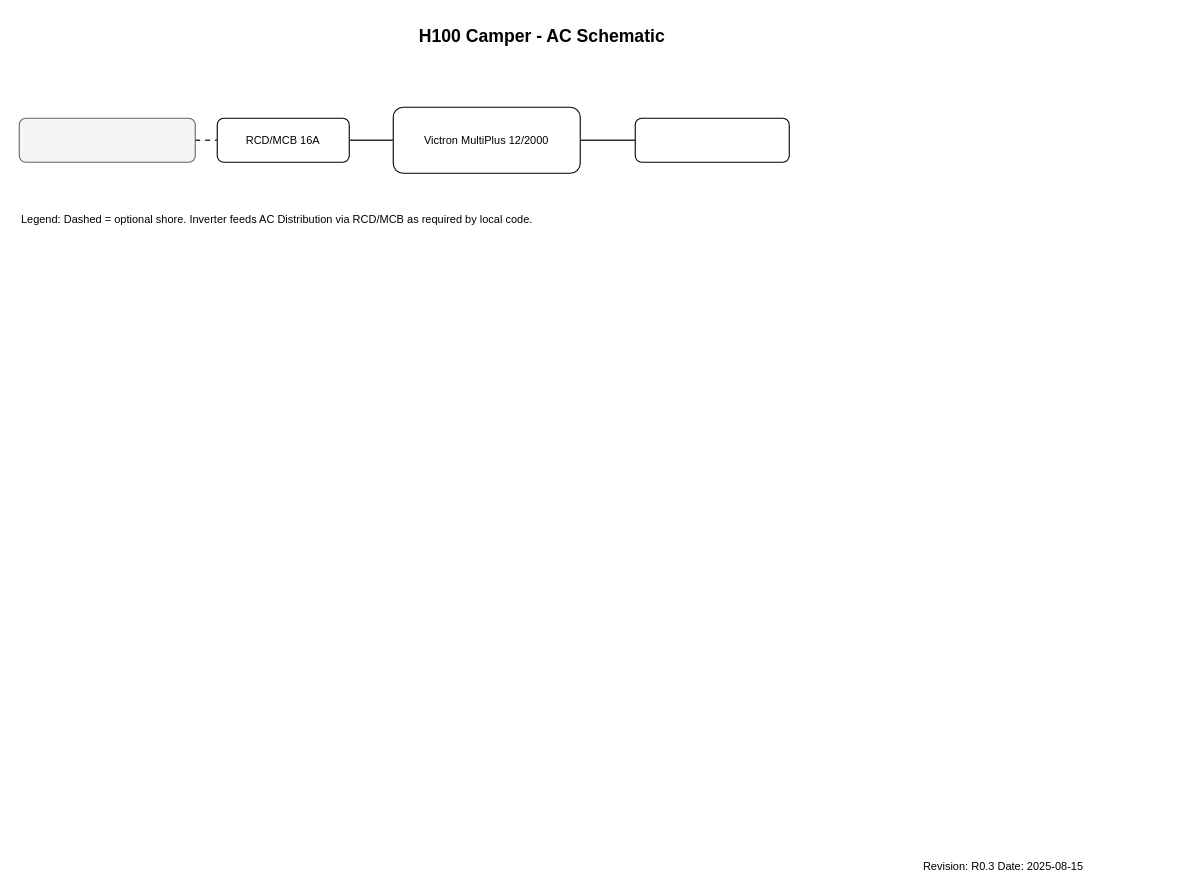
Some shapes in this 1183 by 895 pixel diagram are drawn without their labels. Here are the shapes that lost their labels. From the top down, the centre of each, then its label:
[106,139]: Shore Inlet 230V 16A (optional)
[711,139]: AC Distribution
